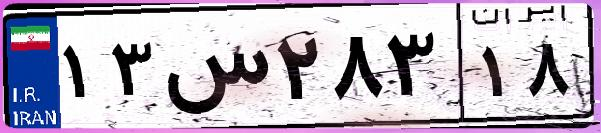1: (57, 26, 110, 100), (475, 38, 525, 113)
2: (270, 28, 330, 110)
3: (385, 28, 445, 110), (110, 28, 158, 98)
8: (330, 28, 385, 110), (525, 38, 570, 115)
س: (158, 20, 270, 120)
